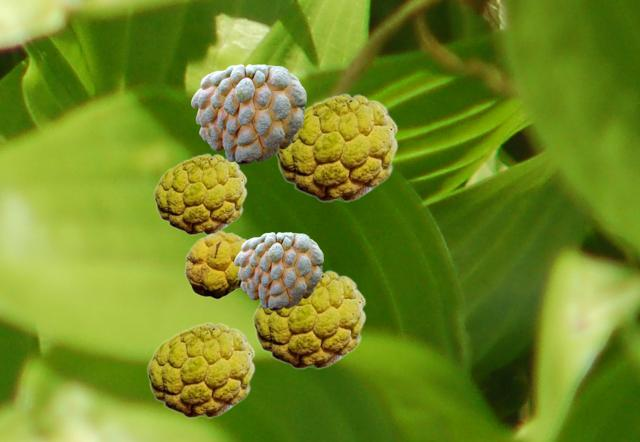atis: (275, 93, 397, 201), (191, 64, 305, 163), (252, 269, 365, 368), (146, 322, 254, 417), (153, 153, 246, 234), (234, 232, 322, 309), (184, 230, 246, 298)
